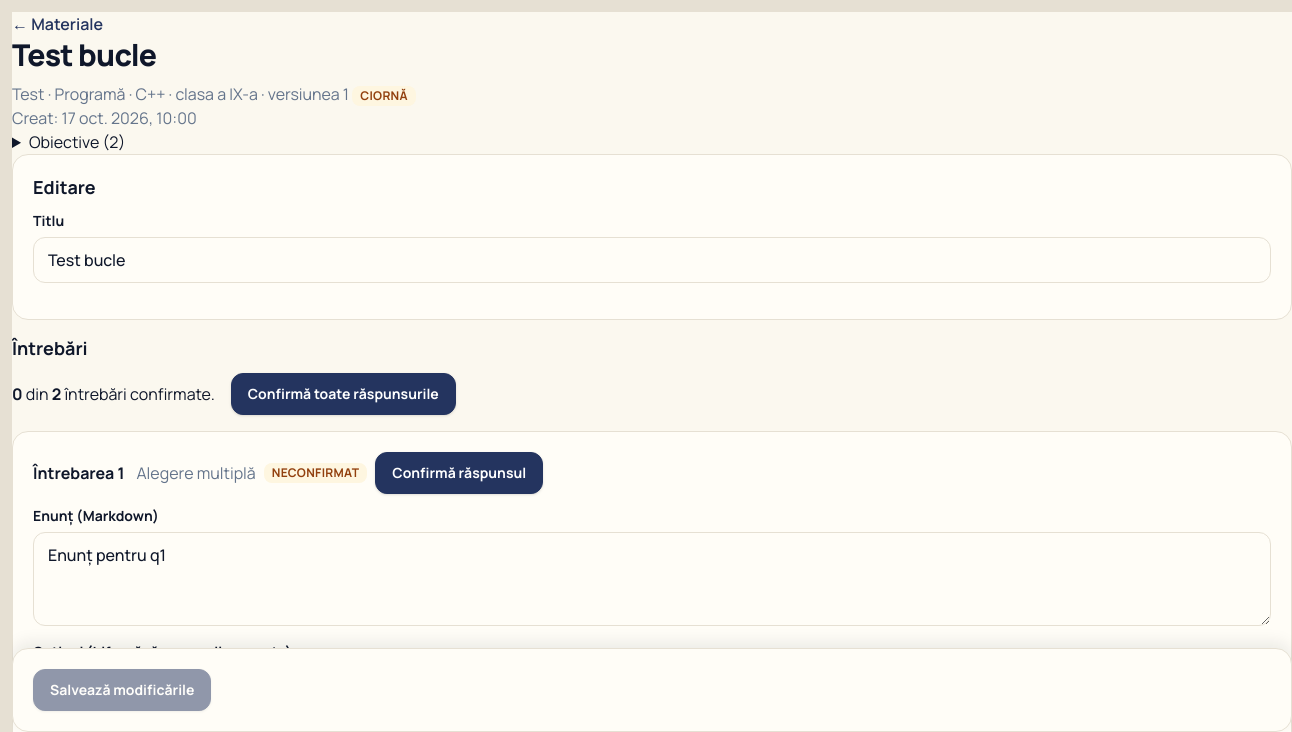
Test case: publish gating › does not let a question be confirmed while there are unsaved edits
Step 1. Replace the text in the field labelled "Titlu" with "x" → (652, 260), box [33,237,1271,283]
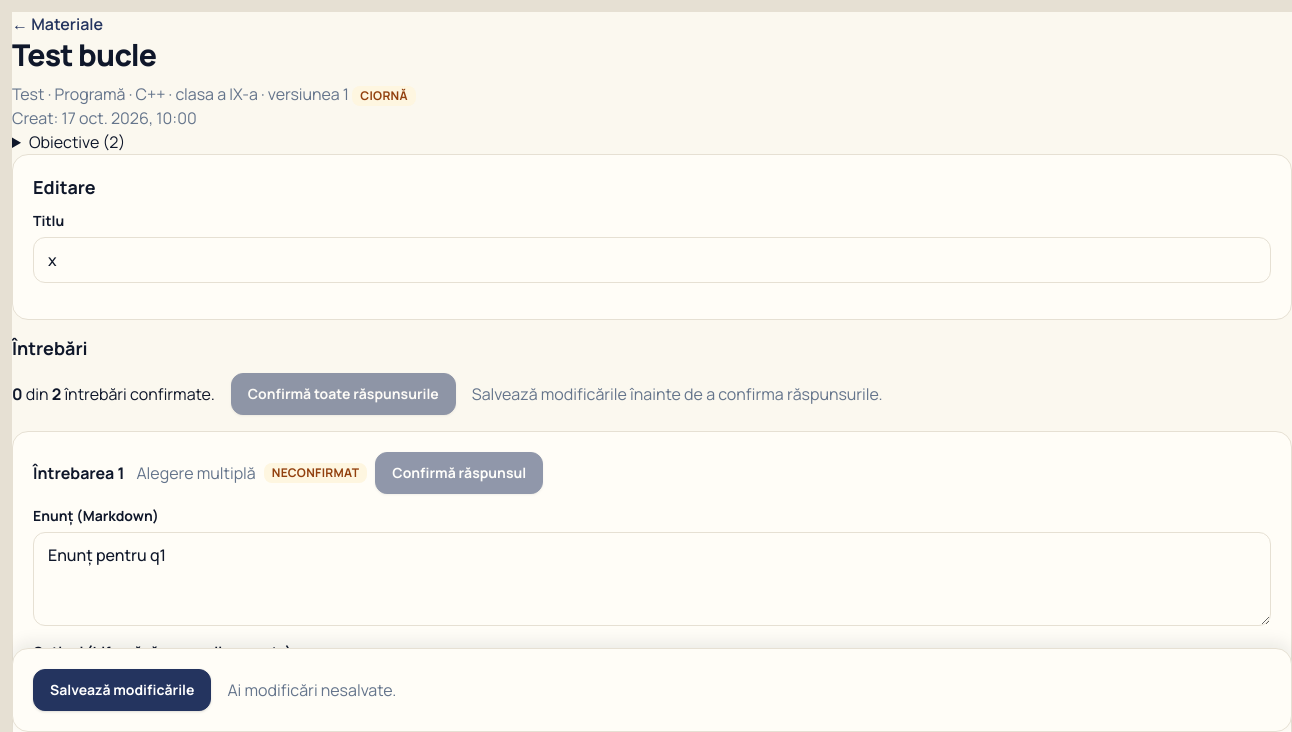
Now the button "Confirmă răspunsul" is disabled, box [375,452,543,494]
Now the button "Confirmă toate răspunsurile" is disabled, box [231,373,456,415]
Now the text "Salvează modificările înainte de a confirma răspunsurile." is shown, box [472,382,883,406]
